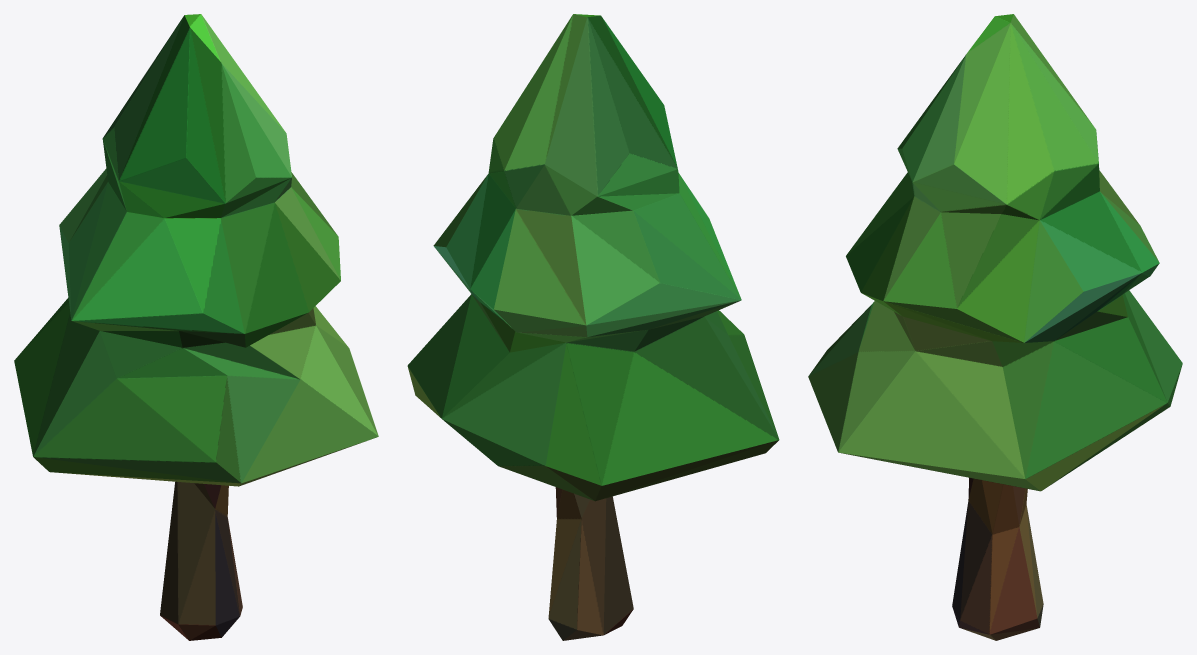
The model's file is tree.fbx.
3 renders of one model, left to right at view 1: azimuth 30°, elevation 25°; view 2: azimuth 150°, elevation 25°; view 3: azimuth 270°, elevation 25°, orthographic.
Visible parts, largest first — view 1: Mesh_0; view 2: Mesh_0; view 3: Mesh_0.
Boxes of the visible parts, x1,y1,x2,y2 form: Mesh_0: [14, 14, 378, 640]; Mesh_0: [407, 14, 779, 640]; Mesh_0: [808, 14, 1182, 640].
Bounding box in the file's own units: 68.86 × 119 × 65.22.
1 material, 1 textured.
